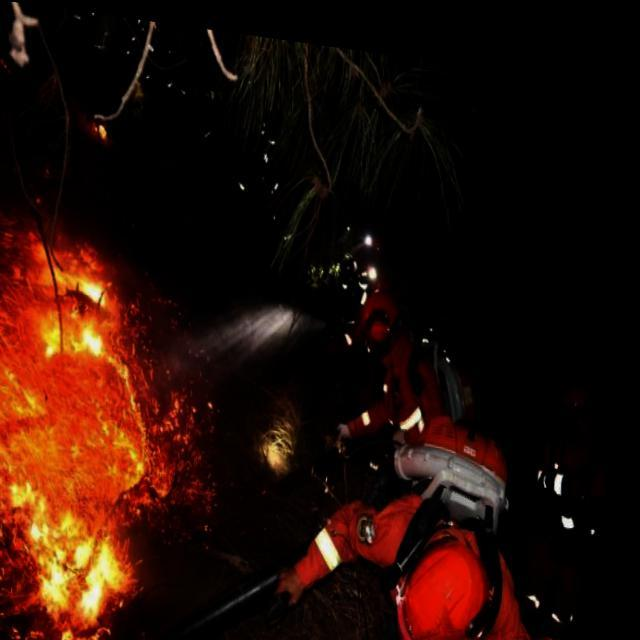Fire: (0, 208, 211, 639)
